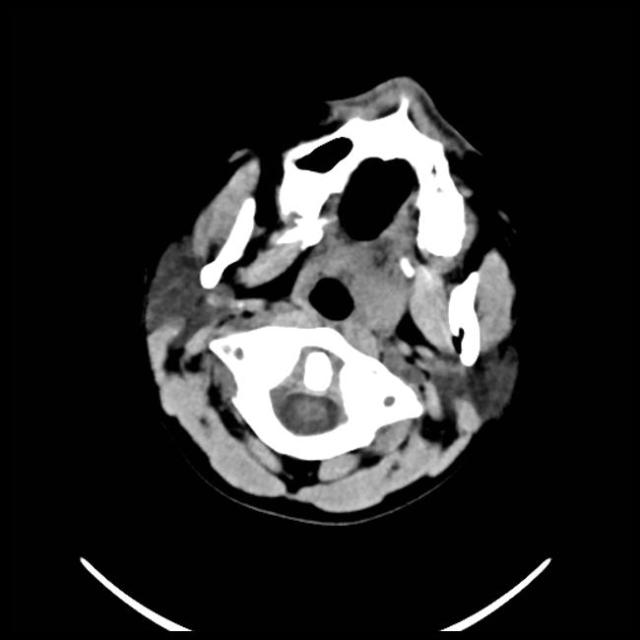lesion: (138, 72, 528, 522)
